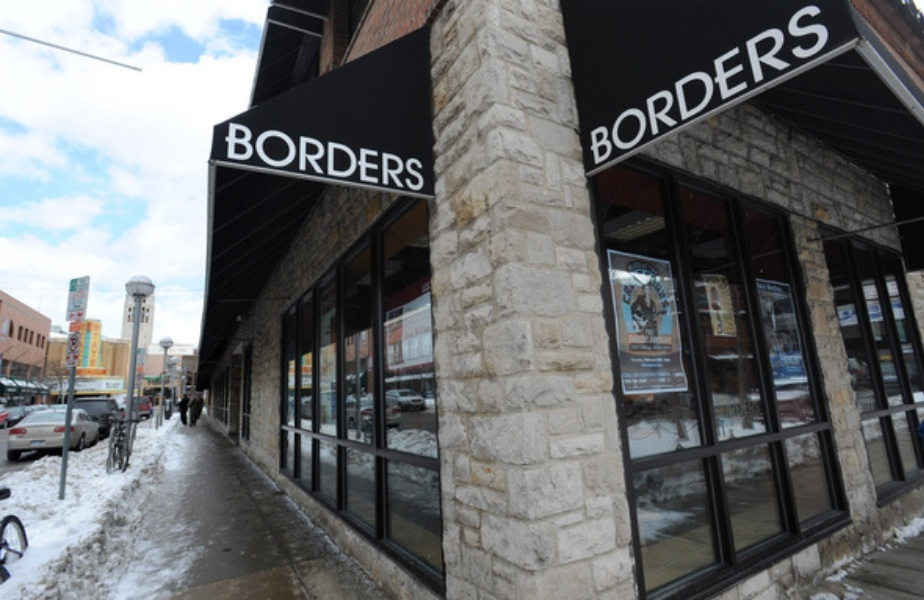text: (593, 1, 608, 167), (609, 1, 624, 167), (625, 1, 640, 167), (641, 1, 656, 167), (657, 1, 672, 167), (673, 1, 688, 167), (689, 1, 704, 167), (705, 1, 720, 167), (721, 1, 736, 167), (737, 1, 752, 167), (753, 1, 768, 167), (769, 1, 784, 167), (785, 1, 800, 167), (801, 1, 816, 167), (817, 1, 832, 167), (833, 1, 843, 167), (241, 120, 256, 192), (257, 120, 272, 192), (273, 120, 288, 192), (289, 120, 304, 192), (305, 120, 320, 192), (321, 120, 336, 192), (337, 120, 352, 192), (353, 120, 368, 192), (369, 120, 384, 192), (385, 120, 400, 192), (401, 120, 416, 192), (229, 120, 240, 192), (417, 120, 425, 192), (657, 275, 672, 309), (589, 1, 592, 167), (629, 276, 640, 308), (641, 334, 656, 350), (657, 334, 672, 350), (629, 334, 640, 350), (625, 372, 640, 383), (641, 372, 656, 383), (657, 372, 672, 383), (641, 356, 656, 367), (657, 356, 672, 367), (673, 372, 686, 383), (629, 356, 640, 367), (622, 372, 624, 383)
